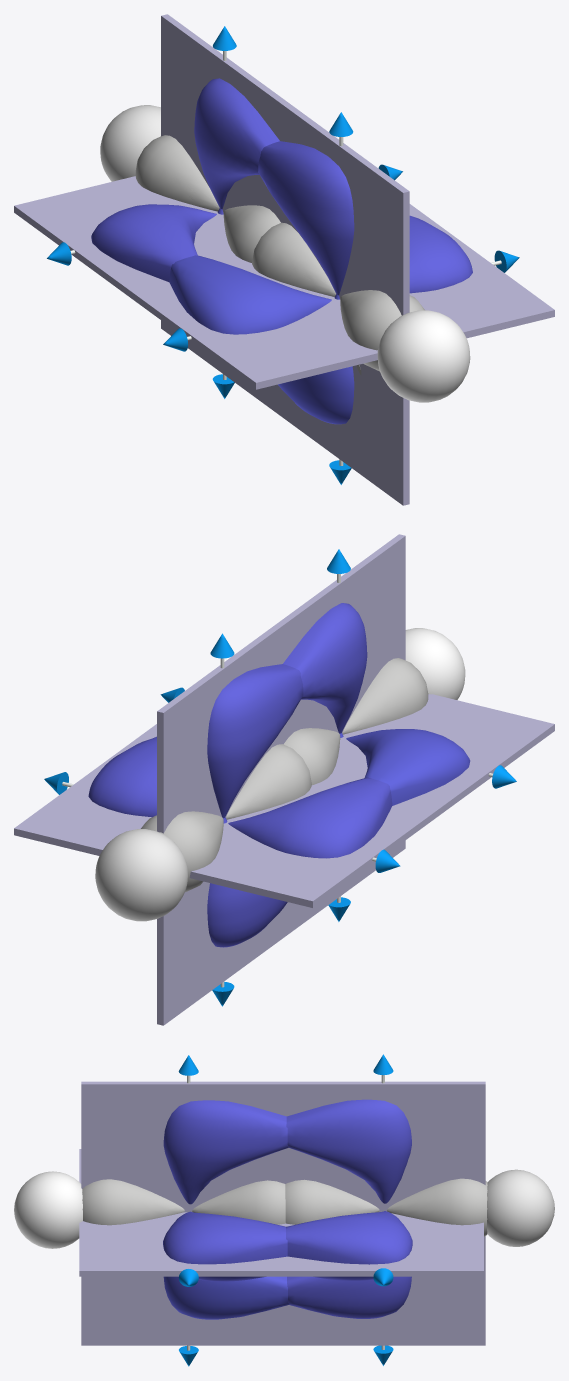
File: 04-sp-orbital-viewer.glb
3 renders of one model, top to bottom at view 1: azimuth 30°, elevation 25°; view 2: azimuth 150°, elevation 25°; view 3: azimuth 270°, elevation 25°, orthographic. The views are drawn at different scales.
Visible parts, largest first — view 1: TRANSPARENT_PARTS_2, TRANSPARENT_PARTS_1, PART2_3, PART1_4, INITIAL_TRANSPARENT_1, PART2_4, PART1_3, Circle26-FACES001, PART1_2, Circle03-FACES001, INITIAL_TRANSPARENT_2, PART2_7 (+2 smaller); view 2: TRANSPARENT_PARTS_2, TRANSPARENT_PARTS_1, PART2_4, PART1_3, INITIAL_TRANSPARENT_2, PART2_3, PART1_4, PART1_1, Circle01-FACES001, Circle25-FACES001, PART2_2, INITIAL_TRANSPARENT_1 (+2 smaller); view 3: TRANSPARENT_PARTS_2, TRANSPARENT_PARTS_1, PART2_4, PART2_3, PART1_1, PART1_2, INITIAL_TRANSPARENT_1, INITIAL_TRANSPARENT_2, PART2_7, PART2_2, Circle26-FACES001, Circle01-FACES001 (+2 smaller).
Part boxes in pixels (x1,y1,x2,y2): TRANSPARENT_PARTS_2: (161, 14, 409, 505); TRANSPARENT_PARTS_1: (14, 176, 554, 389); PART2_3: (258, 141, 354, 295); PART1_4: (169, 255, 331, 334); INITIAL_TRANSPARENT_1: (377, 310, 470, 402); PART2_4: (194, 78, 279, 209); PART1_3: (91, 204, 216, 281); Circle26-FACES001: (135, 135, 219, 211); PART1_2: (409, 215, 472, 293); Circle03-FACES001: (252, 222, 335, 296); INITIAL_TRANSPARENT_2: (100, 105, 160, 181); PART2_7: (278, 294, 354, 424); TRANSPARENT_PARTS_2: (157, 534, 405, 1025); TRANSPARENT_PARTS_1: (14, 694, 554, 907); PART2_4: (207, 664, 303, 818); PART1_3: (228, 777, 392, 858); INITIAL_TRANSPARENT_2: (95, 829, 187, 921); PART2_3: (283, 603, 367, 733); PART1_4: (346, 729, 470, 805); PART1_1: (88, 736, 156, 817); Circle01-FACES001: (342, 658, 428, 734); Circle25-FACES001: (226, 744, 311, 819); PART2_2: (207, 817, 287, 947); INITIAL_TRANSPARENT_1: (405, 628, 465, 699); TRANSPARENT_PARTS_2: (81, 1081, 485, 1345); TRANSPARENT_PARTS_1: (79, 1149, 483, 1276); PART2_4: (286, 1099, 411, 1203); PART2_3: (163, 1100, 288, 1204); PART1_1: (286, 1211, 412, 1280); PART1_2: (163, 1211, 287, 1281); INITIAL_TRANSPARENT_1: (14, 1171, 82, 1248); INITIAL_TRANSPARENT_2: (487, 1169, 554, 1246); PART2_7: (163, 1276, 289, 1319); PART2_2: (287, 1276, 411, 1318); Circle26-FACES001: (387, 1178, 487, 1236); Circle01-FACES001: (82, 1179, 184, 1225).
Bounding box in the file's own units: 5.77 × 5.78 × 9.06.
